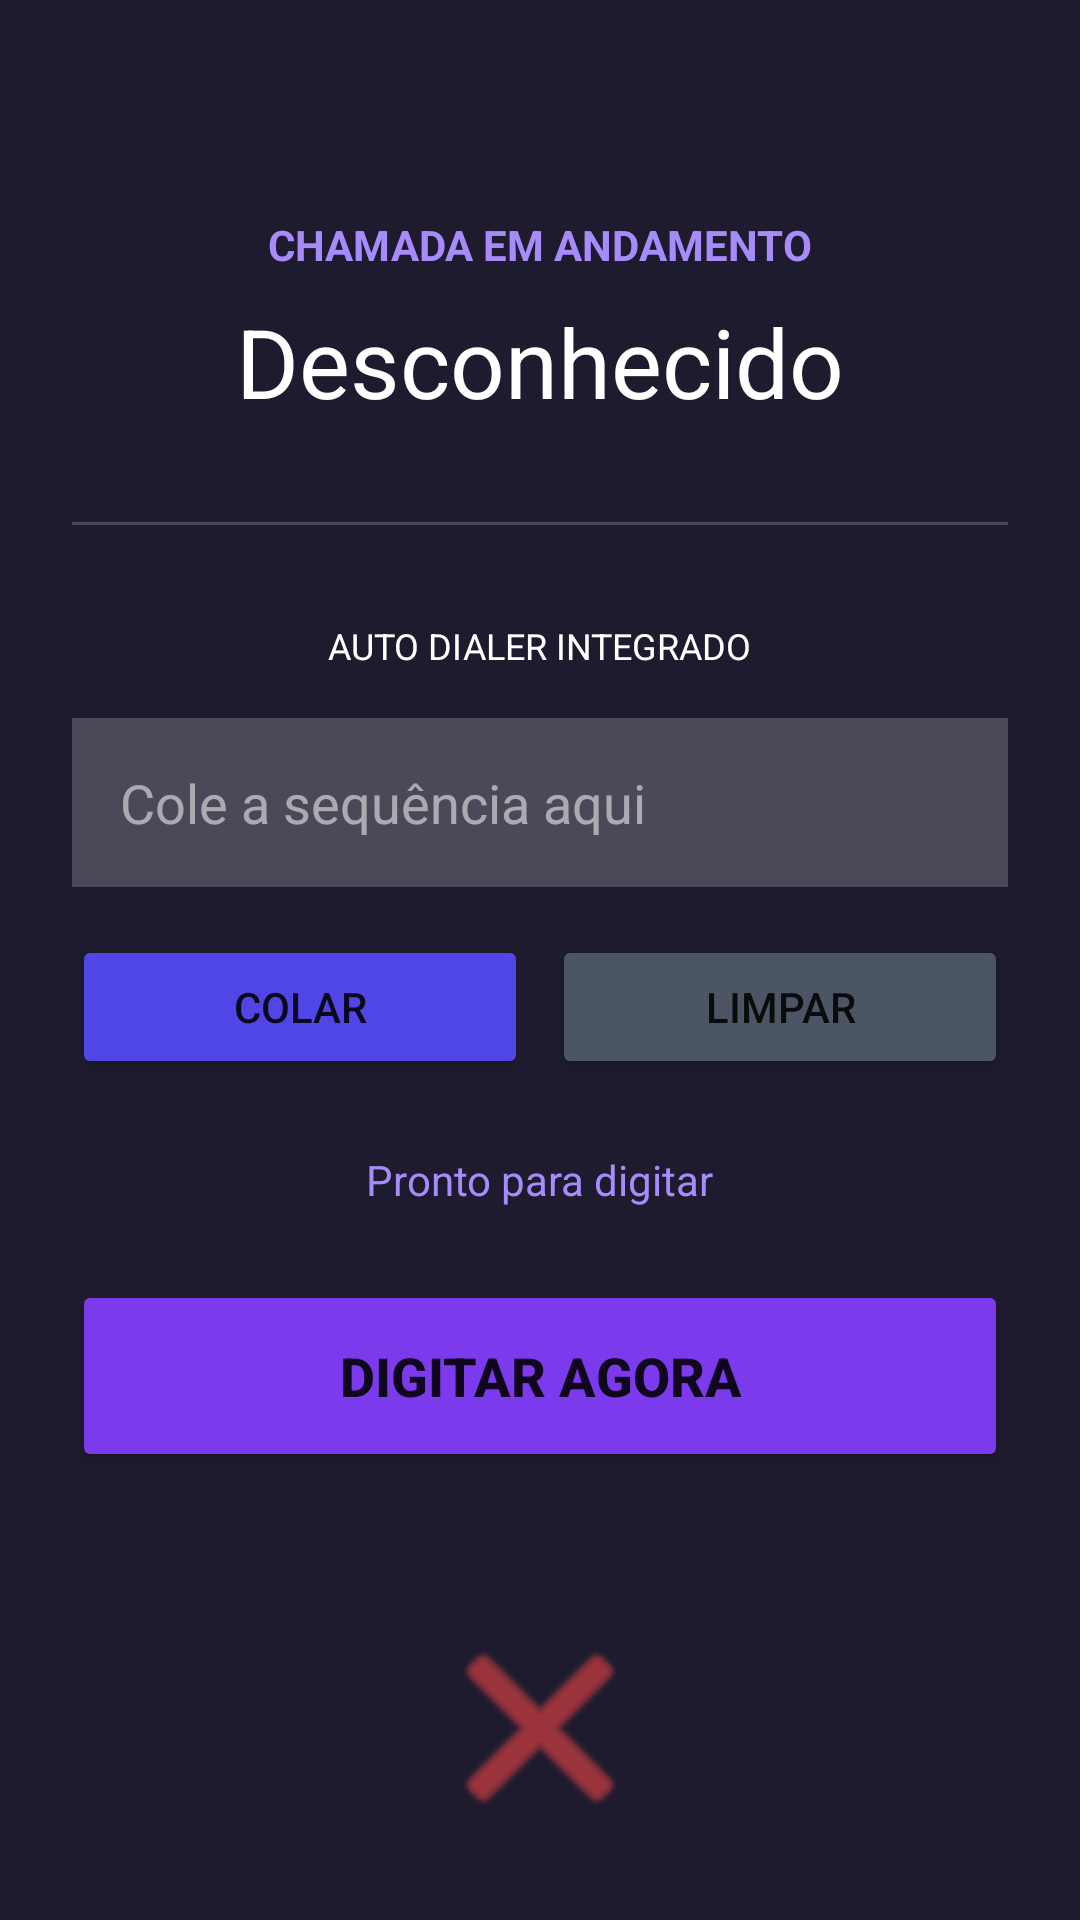

Icon click points for this 1080w x 1920h phone screenshot, format point (x, y):
close clear cancel: point (540, 1728)
